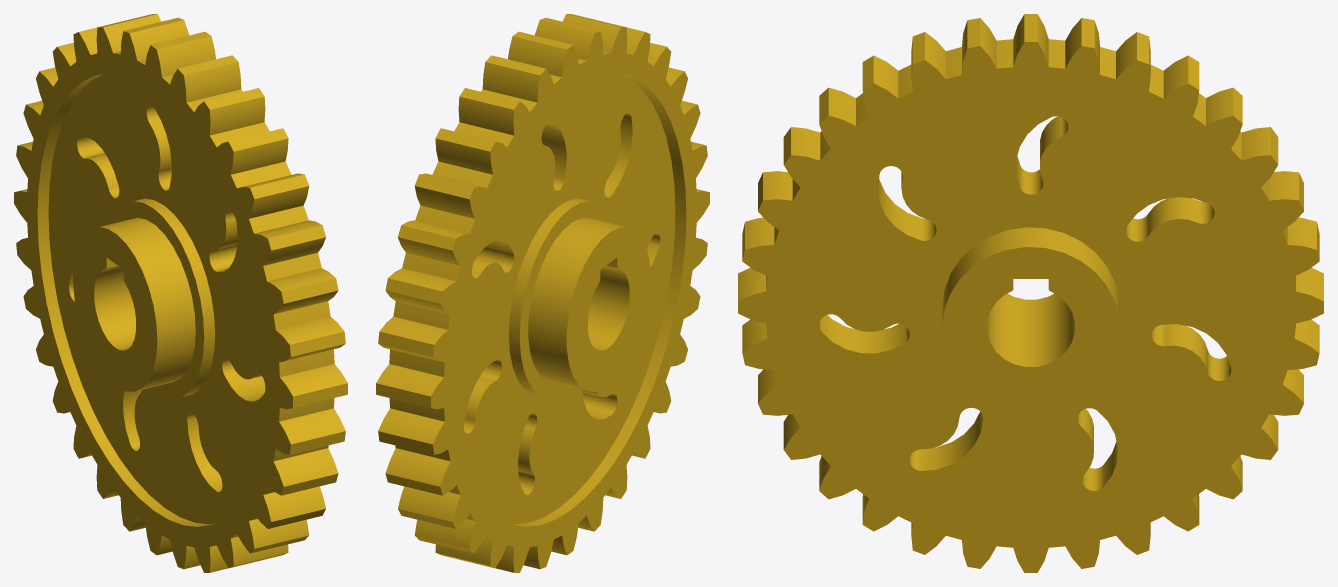
The model's file is gear.glb.
3 renders of one model, left to right at view 1: azimuth 30°, elevation 25°; view 2: azimuth 150°, elevation 25°; view 3: azimuth 270°, elevation 25°, orthographic. The views are drawn at different scales.
Visible parts, largest first — view 1: gear; view 2: gear; view 3: gear.
Part boxes in pixels (left/top/right/bottom): gear: left=14, top=14, right=347, bottom=572; gear: left=376, top=14, right=709, bottom=572; gear: left=738, top=14, right=1323, bottom=572.
Size of the model in its own units: 0.036 by 0.1323 by 0.1323.
